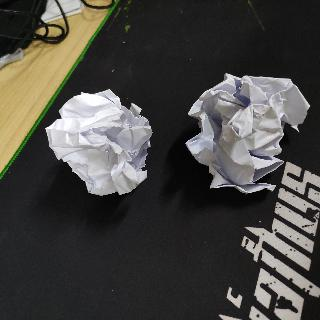8/可回收垃圾/纸: (184, 71, 311, 195), (44, 87, 153, 197)
